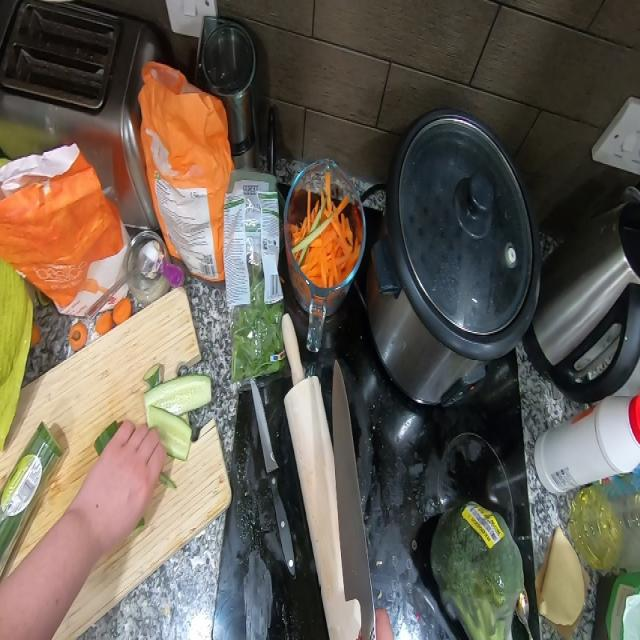broccoli: (423, 489, 527, 640)
flour bag: (0, 146, 126, 306)
kettle: (541, 160, 640, 391)
knife: (329, 357, 379, 640), (249, 375, 297, 572)
left hand: (71, 420, 169, 540)
rice cooker: (375, 102, 535, 414)
salt: (541, 404, 640, 502)
toaster: (3, 4, 165, 150)
